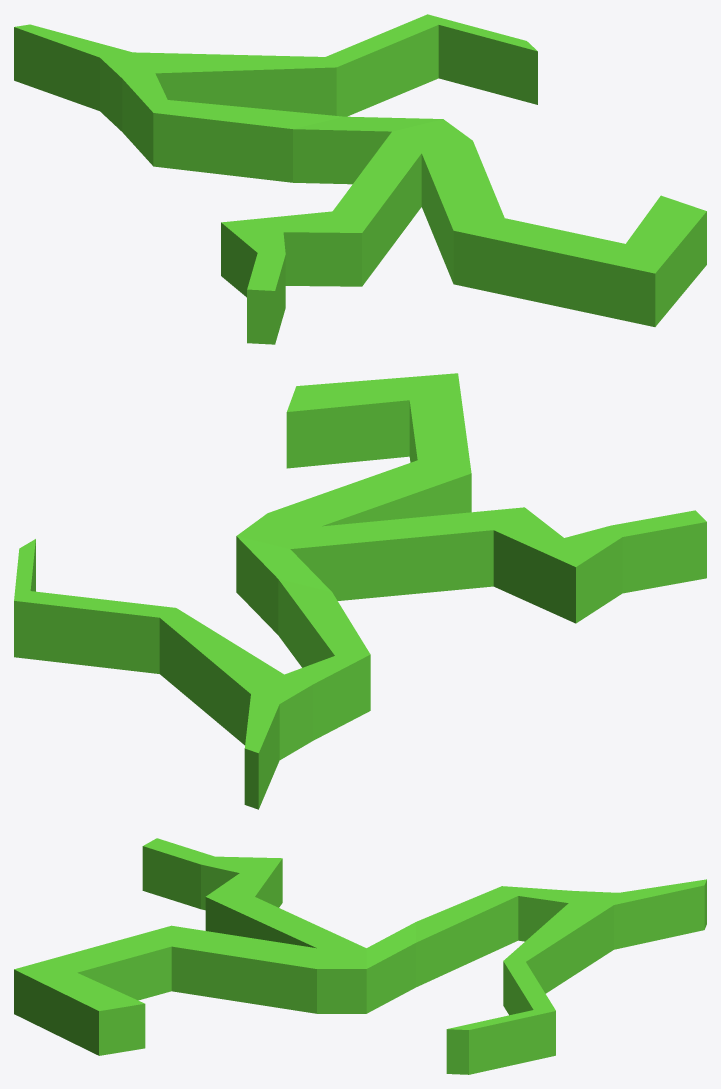
The model's file is groundvine2.fbx.
The picture shows the model from 3 angles, top to bottom: view 1: azimuth 30°, elevation 25°; view 2: azimuth 150°, elevation 25°; view 3: azimuth 270°, elevation 25°; orthographic projection. The views are drawn at different scales.
Visible parts, largest first — view 1: Cube.009; view 2: Cube.009; view 3: Cube.009.
Boxes of the visible parts, x1,y1,x2,y2 form: Cube.009: (14, 14, 706, 344); Cube.009: (14, 373, 706, 809); Cube.009: (14, 838, 706, 1074).
Size of the model in its own units: 498 by 57.07 by 768.
